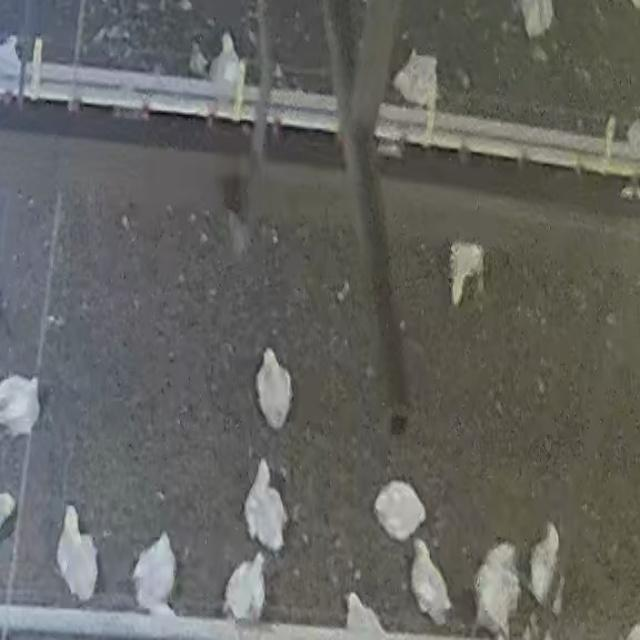chicken: (472, 541, 520, 639), (244, 458, 289, 554), (56, 505, 100, 601), (410, 529, 452, 627), (131, 531, 178, 615), (372, 479, 428, 543), (530, 516, 565, 616), (222, 552, 269, 626), (210, 34, 250, 117), (256, 343, 294, 429), (0, 372, 42, 439), (394, 48, 440, 106), (448, 241, 484, 305)
